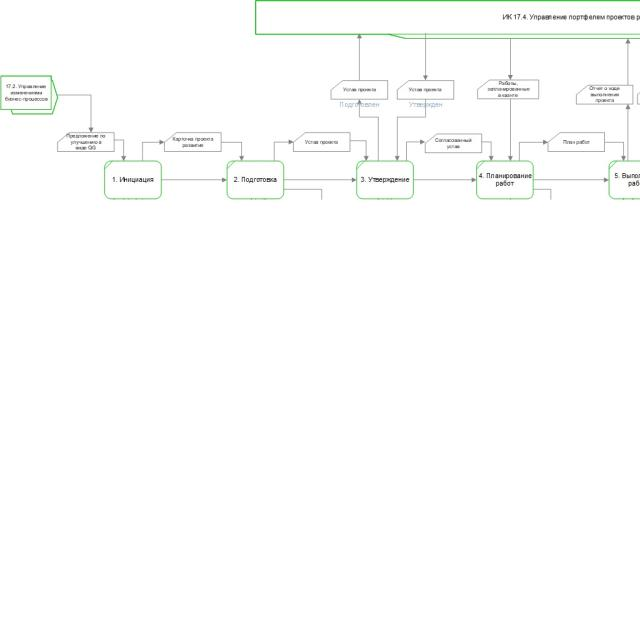arrow: (394, 100, 426, 160), (56, 93, 94, 133), (358, 100, 380, 160), (518, 139, 546, 160), (140, 139, 165, 161), (221, 140, 244, 162), (534, 177, 608, 183), (284, 177, 356, 183), (272, 140, 292, 161), (350, 139, 369, 161), (161, 176, 227, 182), (406, 139, 424, 160), (508, 100, 513, 160), (114, 138, 126, 161), (414, 178, 476, 182), (482, 140, 493, 160)
rectangle: (476, 160, 534, 199), (105, 160, 161, 199), (227, 161, 284, 199), (357, 161, 413, 199), (0, 75, 52, 111), (395, 79, 455, 101), (477, 79, 539, 100), (293, 131, 351, 153), (548, 131, 606, 153), (330, 80, 390, 101), (575, 84, 634, 105), (424, 134, 482, 154), (164, 132, 222, 152), (58, 132, 114, 152)
